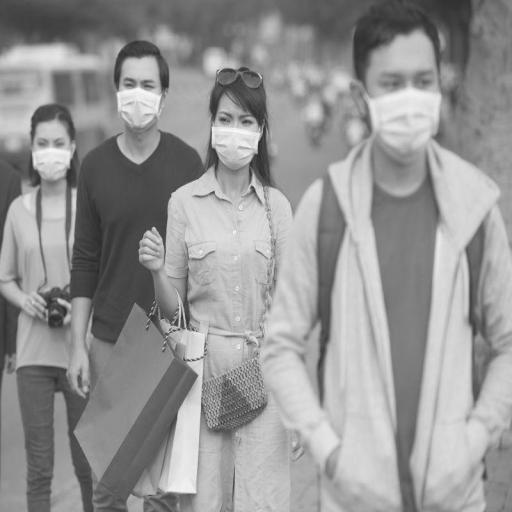mask: (350, 2, 449, 162), (206, 60, 276, 176), (110, 38, 176, 138), (20, 101, 80, 179)
